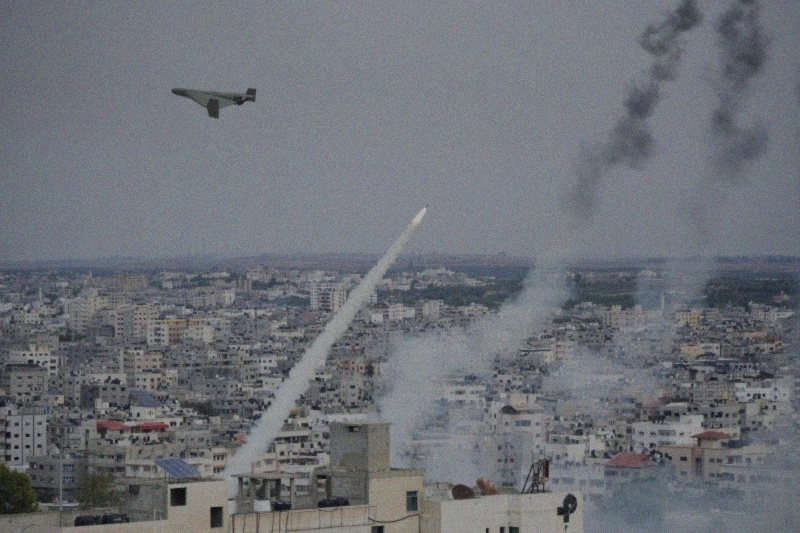shahed: (173, 77, 258, 121)
